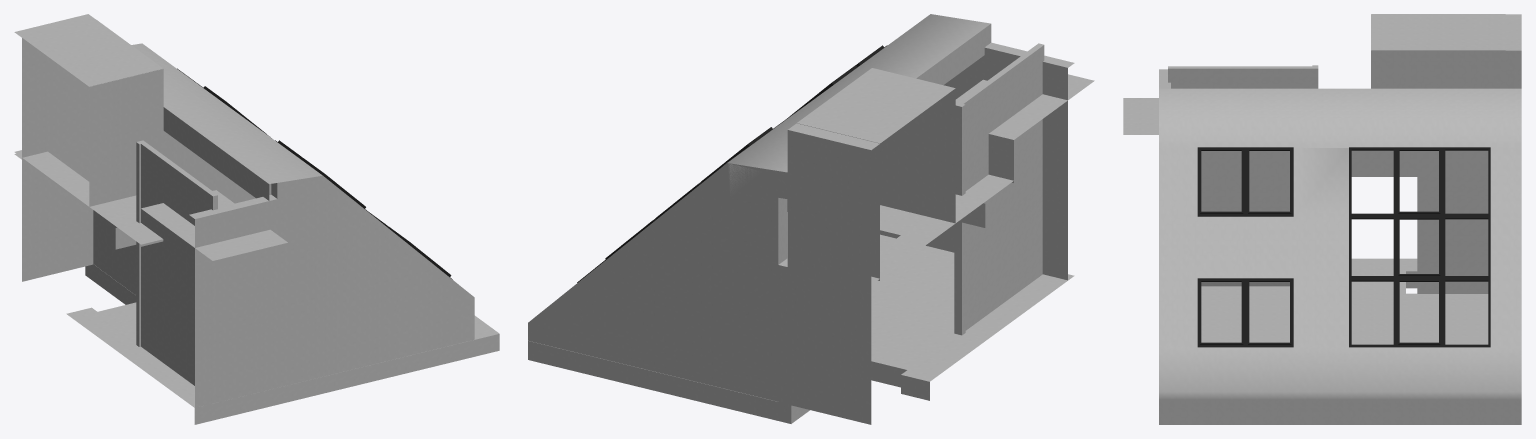
Rendered from PrviDeo_01.gltf.
3 renders of one model, left to right at view 1: azimuth 30°, elevation 25°; view 2: azimuth 150°, elevation 25°; view 3: azimuth 270°, elevation 25°, orthographic. The views are drawn at different scales.
Visible parts, largest first — view 1: ZID.001, Prozori.001; view 2: ZID.001, Prozori.001; view 3: ZID.001, Prozori.001.
Part boxes in pixels (bbox=[...]): ZID.001: bbox=[14, 14, 499, 424]; Prozori.001: bbox=[177, 68, 452, 279]; ZID.001: bbox=[528, 14, 1094, 424]; Prozori.001: bbox=[577, 45, 887, 282]; ZID.001: bbox=[1123, 14, 1521, 424]; Prozori.001: bbox=[1197, 147, 1490, 347].
Size of the model in its own units: 735 by 601 by 829.
2 materials, 2 textured.
